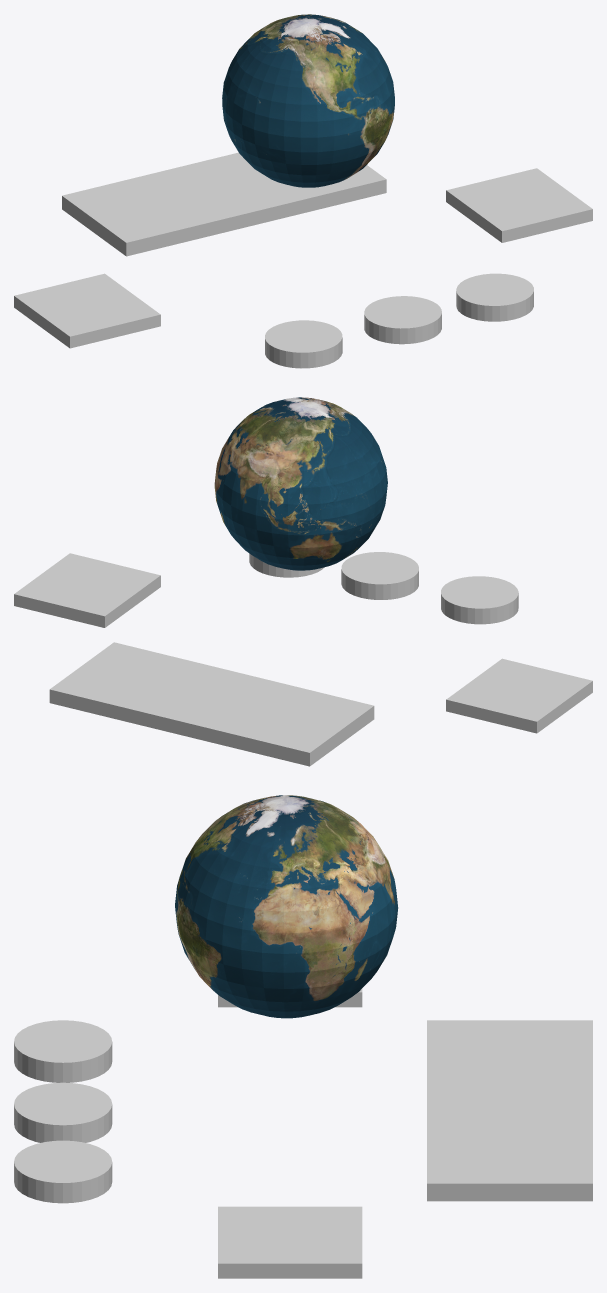
The model's file is businesscard1.glb.
3 renders of one model, top to bottom at view 1: azimuth 30°, elevation 25°; view 2: azimuth 150°, elevation 25°; view 3: azimuth 270°, elevation 25°, orthographic. The views are drawn at different scales.
Visible parts, largest first — view 1: Earth, Cube, Cylinder.002, Cube.001, Cube.002; view 2: Earth, Cube, Cylinder.002, Cube.001, Cube.002; view 3: Earth, Cube, Cylinder.002, Cube.002.
Boxes of the visible parts, left/top/right/bottom form: Earth: left=222, top=14, right=394, bottom=187; Cube: left=62, top=152, right=386, bottom=256; Cylinder.002: left=265, top=273, right=533, bottom=368; Cube.001: left=14, top=273, right=160, bottom=348; Cube.002: left=446, top=168, right=592, bottom=242; Earth: left=214, top=397, right=387, bottom=570; Cube: left=49, top=642, right=374, bottom=766; Cylinder.002: left=249, top=552, right=518, bottom=624; Cube.001: left=446, top=658, right=592, bottom=733; Cube.002: left=14, top=553, right=160, bottom=627; Earth: left=175, top=795, right=398, bottom=1018; Cube: left=427, top=1020, right=592, bottom=1201; Cylinder.002: left=14, top=1020, right=112, bottom=1203; Cube.002: left=218, top=1206, right=362, bottom=1278.
Bounding box in the file's own units: 6.96 × 3.1 × 5.18.
Materials: 1 (1 with a texture image).
